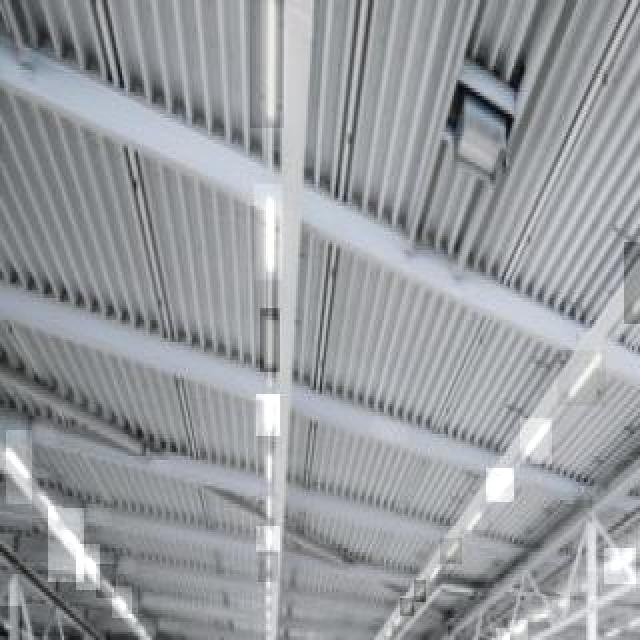fluorescent tube: (232, 0, 296, 120), (558, 338, 613, 415), (251, 191, 293, 280), (0, 442, 48, 496), (45, 486, 80, 558), (520, 400, 555, 467), (251, 289, 274, 389), (630, 224, 640, 334), (636, 512, 640, 556)
